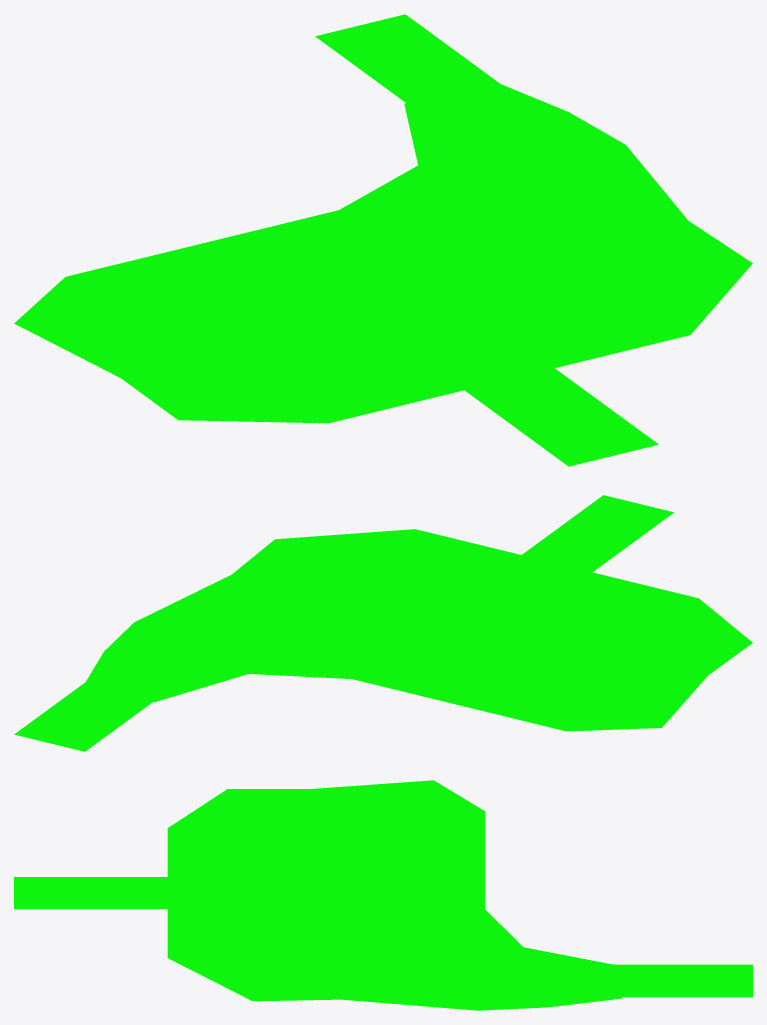
File: s05e_ia1-floor.glb
3 views of the same model, one above another, from view 1: azimuth 30°, elevation 25°; view 2: azimuth 150°, elevation 25°; view 3: azimuth 270°, elevation 25° (orthographic). The views are drawn at different scales.
Parts seen in each view (by area): view 1: collision_floor-colonly; view 2: collision_floor-colonly; view 3: collision_floor-colonly.
Boxes of the visible parts, x1=… form: collision_floor-colonly: x1=14, y1=14, x2=752, y2=466; collision_floor-colonly: x1=14, y1=495, x2=752, y2=751; collision_floor-colonly: x1=14, y1=780, x2=752, y2=1010.
Bounding box in the file's own units: 42.61 × 0.125 × 57.75.
